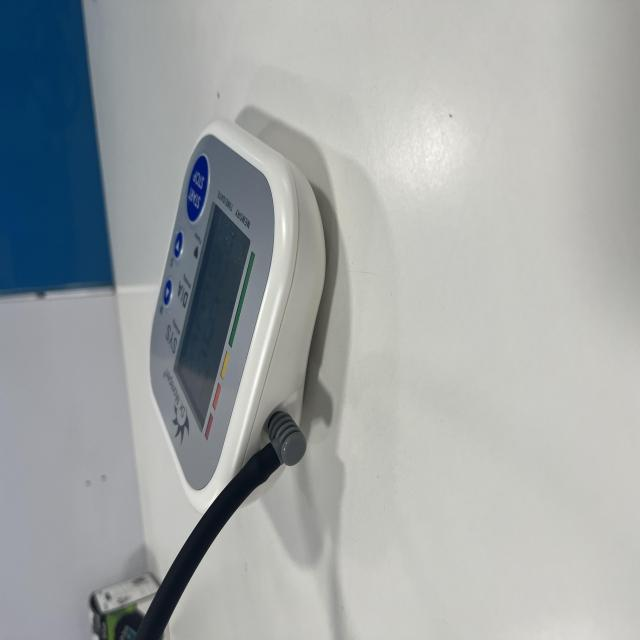bp: (148, 123, 322, 543)
